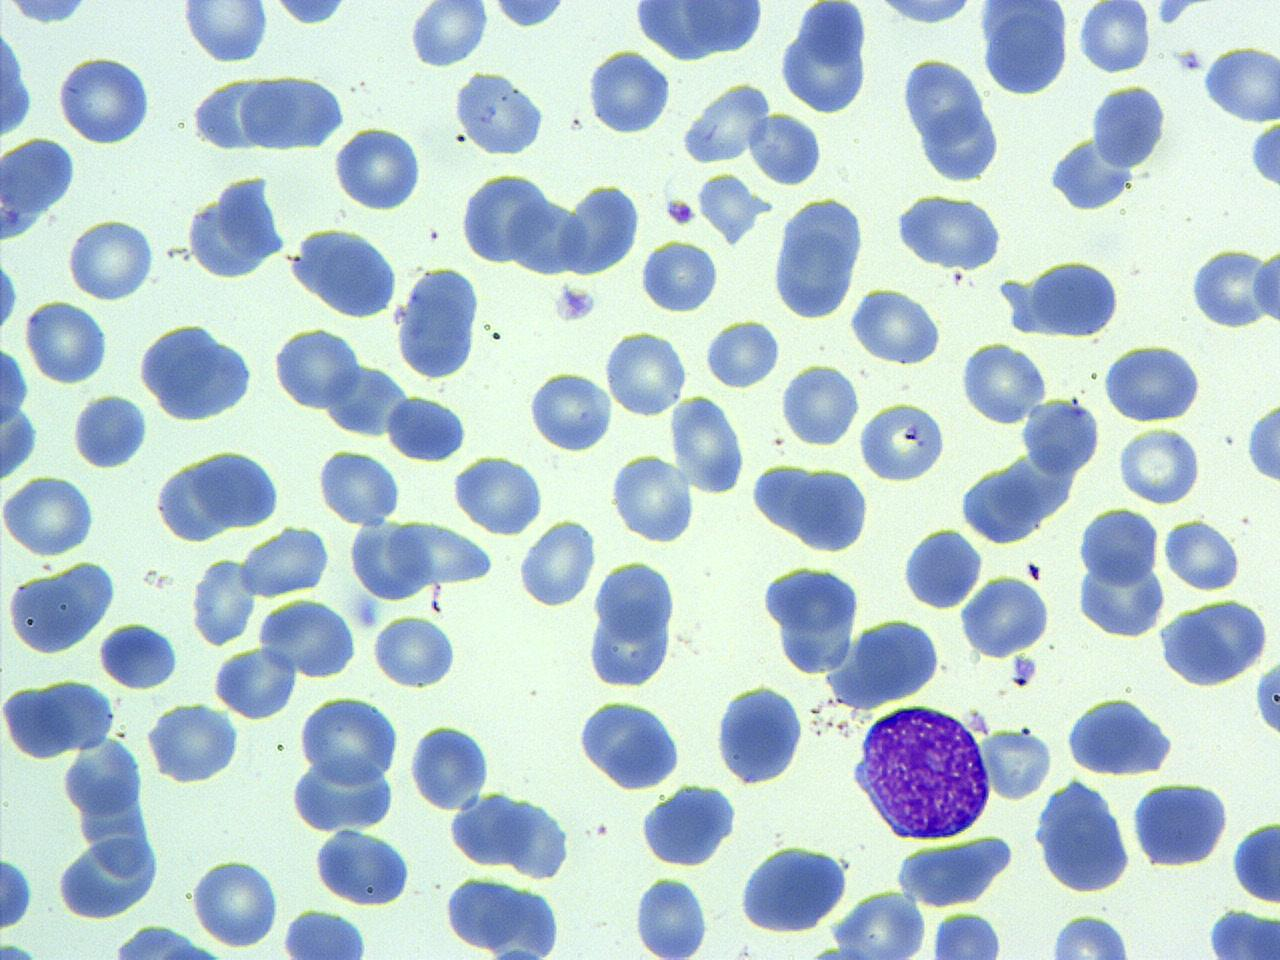Platelets: (1247, 118, 1280, 193), (550, 284, 598, 324), (0, 257, 20, 335), (1153, 1, 1199, 27), (663, 196, 698, 227), (1009, 653, 1039, 688), (0, 939, 42, 960), (1173, 47, 1205, 75)
RBC: (834, 612, 944, 709), (55, 830, 163, 922), (234, 72, 349, 154), (891, 191, 1006, 272), (54, 54, 154, 147), (299, 694, 400, 785), (980, 1, 1069, 102), (288, 750, 398, 832), (187, 856, 280, 950), (451, 450, 545, 539), (458, 169, 545, 266), (2, 568, 94, 659), (680, 76, 774, 165), (144, 700, 242, 786), (668, 392, 749, 496), (406, 719, 496, 812), (556, 179, 640, 278), (0, 474, 97, 559), (258, 597, 356, 681), (958, 573, 1052, 659), (610, 452, 696, 546), (273, 324, 362, 414), (856, 398, 948, 484), (331, 126, 423, 212), (63, 217, 156, 303), (848, 285, 945, 366), (22, 297, 112, 385), (604, 326, 688, 418), (958, 339, 1049, 425), (584, 48, 672, 135), (516, 516, 598, 610), (958, 462, 1046, 546), (237, 523, 334, 599), (1018, 392, 1103, 478), (526, 369, 614, 452), (778, 360, 860, 449), (386, 520, 496, 586), (1117, 423, 1201, 506), (314, 446, 402, 526), (506, 191, 586, 279), (630, 872, 712, 958), (790, 465, 870, 553), (371, 612, 460, 691), (1188, 245, 1270, 330), (211, 644, 299, 722), (1079, 504, 1161, 588), (1200, 41, 1280, 125), (638, 236, 722, 315), (190, 554, 260, 646), (36, 674, 116, 754), (70, 390, 150, 470), (384, 392, 470, 464), (96, 619, 180, 691), (747, 109, 824, 187), (1, 682, 76, 762), (181, 0, 270, 67), (1163, 517, 1241, 593), (505, 796, 572, 882), (703, 317, 782, 390), (408, 0, 490, 71), (980, 726, 1055, 802), (1077, 0, 1151, 77), (278, 906, 374, 958), (676, 2, 766, 56), (928, 908, 1010, 958), (864, 0, 981, 32), (1, 844, 36, 940), (1250, 244, 1280, 326), (265, 0, 352, 28)
WBC: (848, 700, 996, 844), (898, 53, 1004, 185), (584, 556, 681, 690), (136, 318, 258, 425), (184, 166, 291, 286), (1031, 776, 1133, 898), (769, 192, 866, 320), (759, 559, 863, 678), (775, 1, 874, 117), (286, 224, 402, 322), (736, 839, 852, 937), (1155, 596, 1273, 691), (574, 696, 685, 792), (394, 262, 481, 383), (712, 680, 808, 788), (52, 835, 165, 925), (1064, 694, 1180, 779), (55, 53, 158, 149), (1076, 538, 1170, 642), (891, 191, 1007, 274), (451, 66, 551, 160), (833, 621, 946, 704), (1129, 778, 1231, 870), (189, 855, 285, 950), (978, 1, 1070, 99), (636, 782, 738, 870), (288, 752, 397, 834), (1102, 340, 1206, 424), (144, 699, 244, 787), (239, 74, 346, 155), (892, 837, 1013, 909), (3, 569, 98, 659), (0, 134, 77, 246), (310, 827, 415, 909), (1076, 506, 1164, 601), (958, 573, 1053, 661), (557, 179, 641, 278), (450, 452, 546, 536), (1022, 258, 1123, 339), (612, 454, 698, 548), (2, 477, 99, 561), (850, 284, 948, 366), (67, 219, 160, 305), (679, 78, 770, 165), (858, 397, 949, 484), (958, 460, 1050, 546), (444, 870, 533, 958), (586, 47, 672, 137), (191, 447, 282, 532), (1045, 132, 1137, 214), (779, 358, 860, 450), (242, 523, 335, 603), (1188, 242, 1270, 332), (1090, 82, 1170, 172), (374, 610, 466, 690), (791, 463, 868, 557), (1020, 394, 1104, 480), (155, 455, 233, 546), (900, 525, 982, 611), (630, 870, 708, 960), (1, 334, 43, 494), (70, 388, 149, 472), (447, 788, 528, 869), (96, 616, 180, 694), (1199, 44, 1280, 125), (190, 554, 259, 648), (482, 882, 564, 960), (384, 391, 469, 466), (37, 676, 115, 756), (1, 682, 74, 762), (507, 796, 571, 883), (406, 0, 491, 67), (94, 922, 241, 959), (1, 5, 37, 152), (674, 0, 766, 56), (279, 905, 370, 960), (1044, 909, 1140, 958), (1229, 814, 1279, 907), (1203, 906, 1279, 960), (926, 908, 1008, 958), (862, 0, 984, 30), (0, 844, 37, 938), (1244, 396, 1280, 488), (256, 0, 357, 30), (0, 0, 99, 30), (485, 0, 574, 31), (1252, 650, 1280, 746), (1248, 116, 1280, 192)
